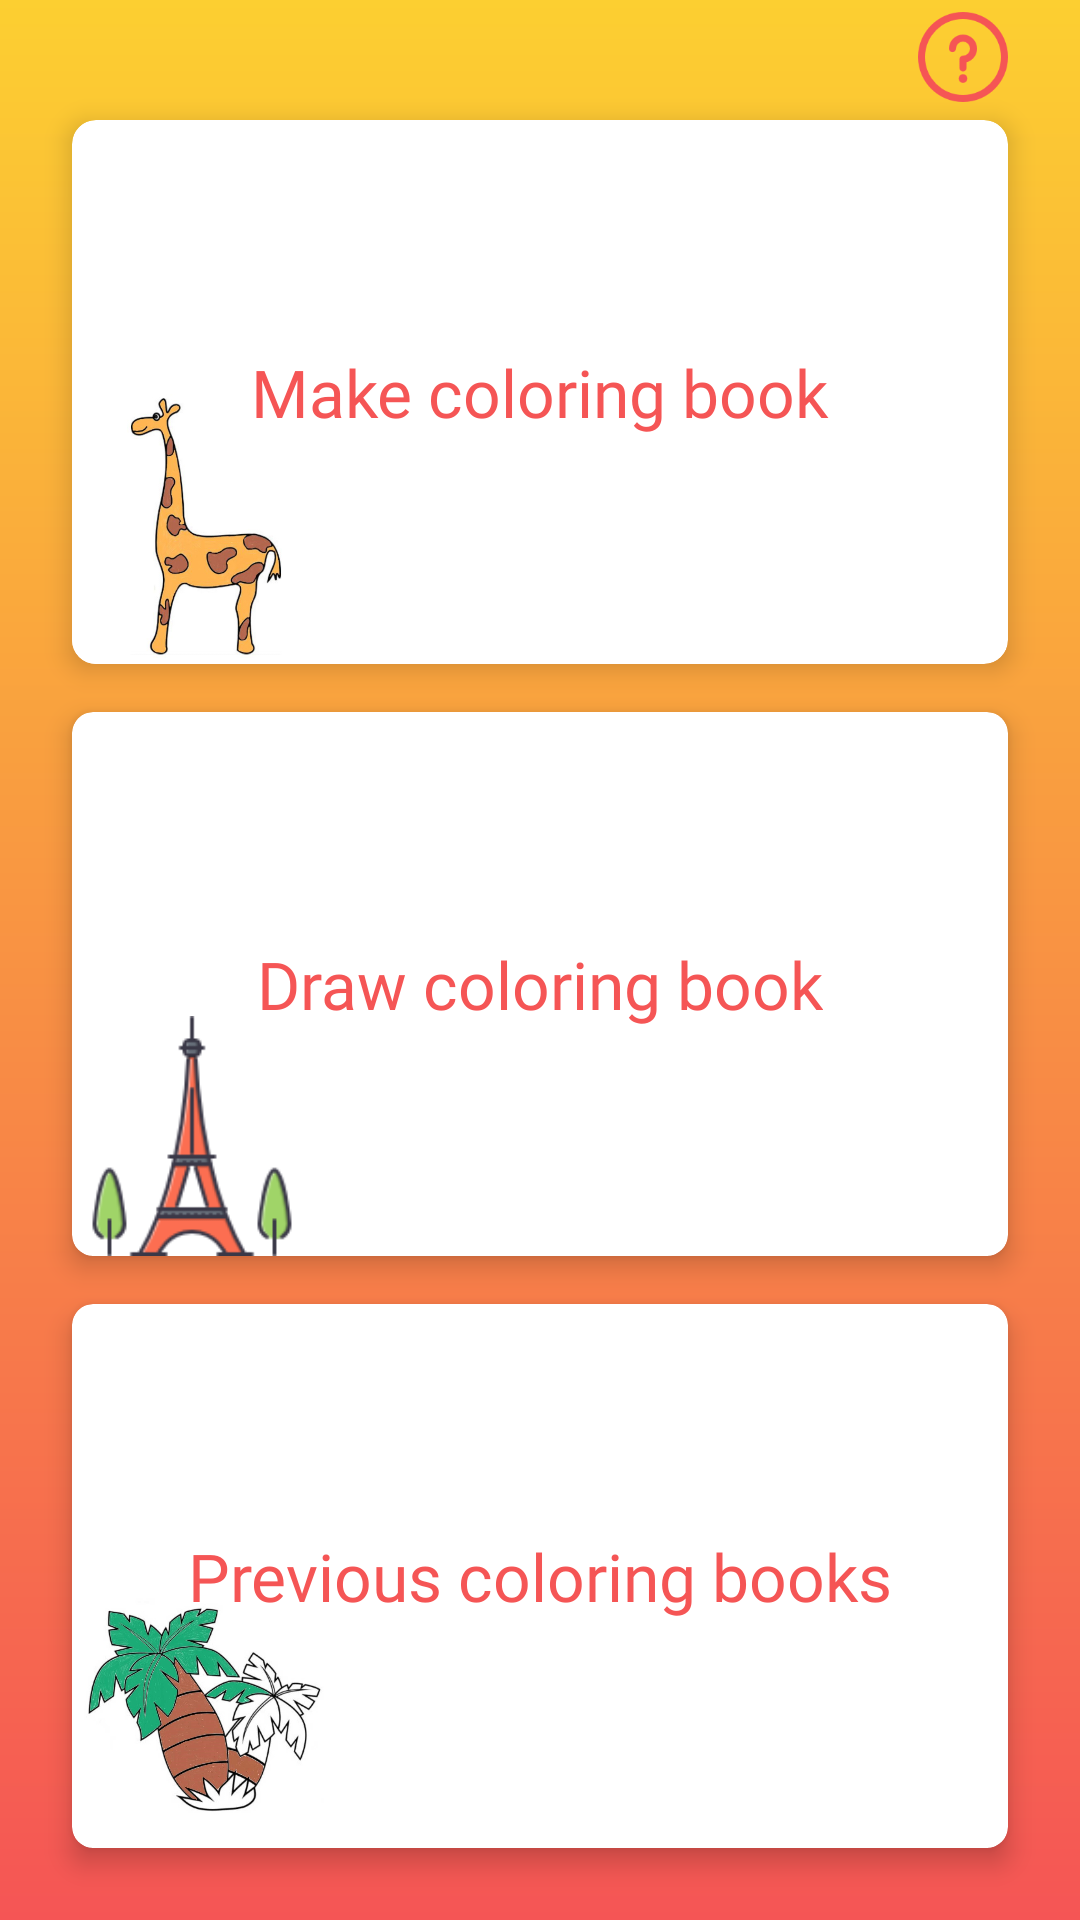

Named icons in this screenshot (1080px x 1920px) and their centers, (x,y):
eiffel tower: (192,1136)
